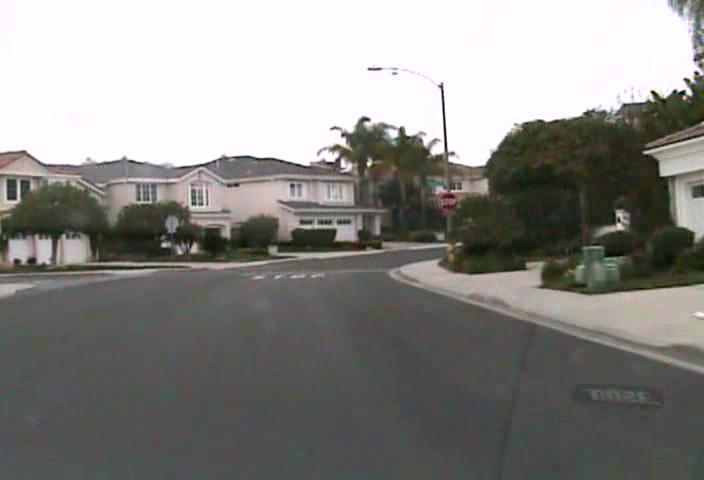stop: (438, 191, 459, 212)
